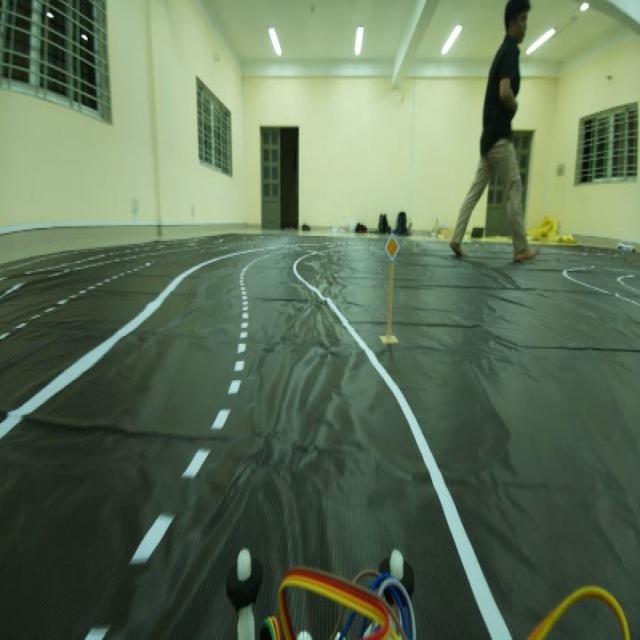priority: (383, 227, 402, 266)
